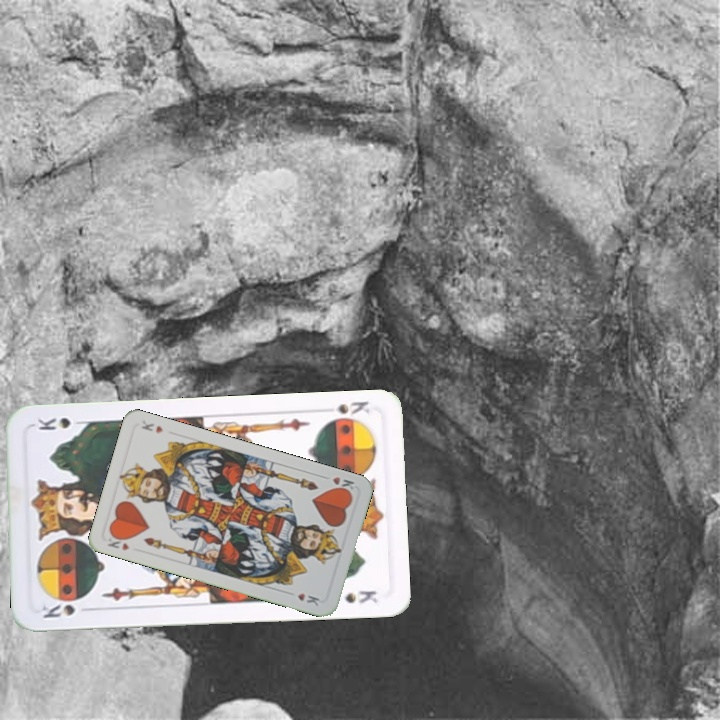HK: (103, 530, 132, 553), (328, 473, 357, 496)
SK: (38, 595, 85, 621), (333, 397, 372, 417)
